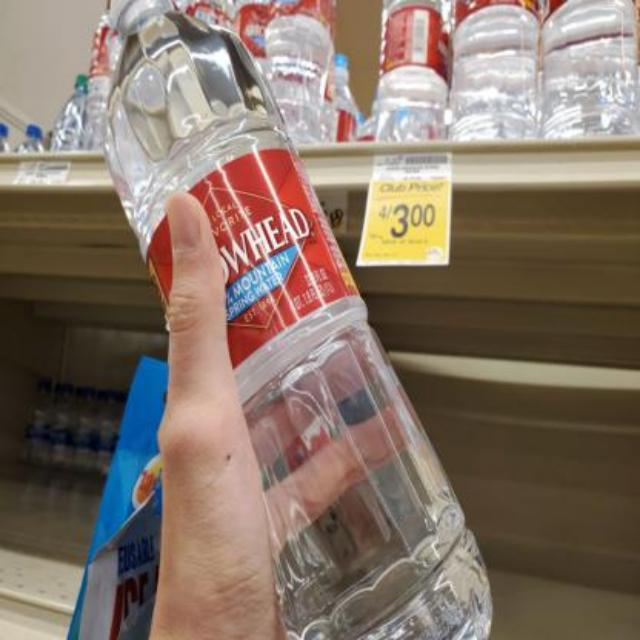bottle: (91, 0, 501, 638)
